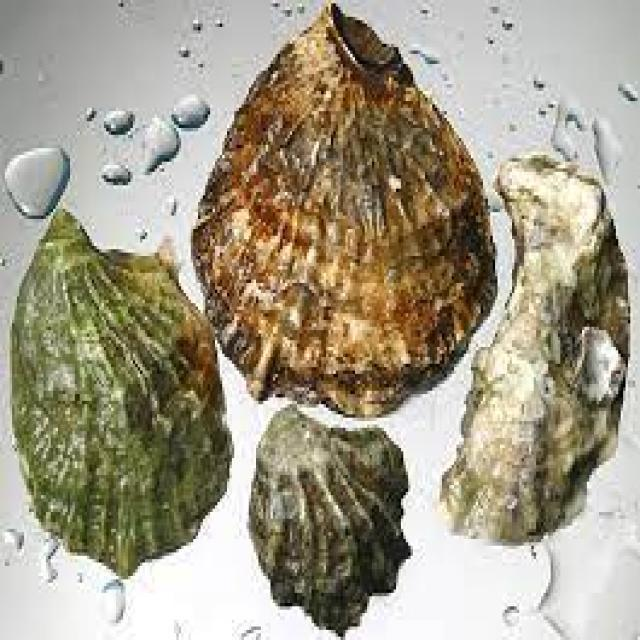Oyster- Indeterminate: (178, 0, 505, 429), (1, 197, 244, 591), (431, 128, 638, 564), (242, 397, 428, 640)
